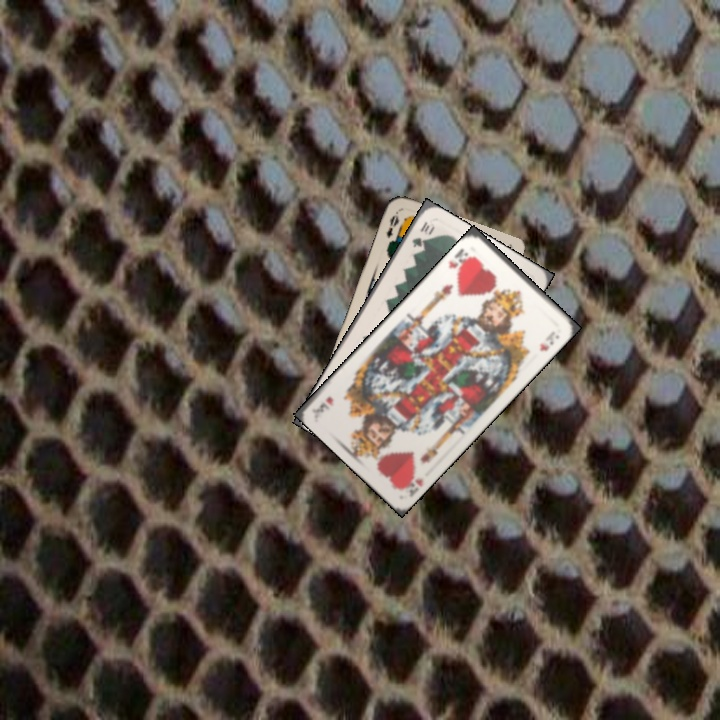EO: (382, 207, 402, 240)
G10: (408, 217, 436, 250)
HK: (444, 244, 477, 277), (400, 467, 426, 500)
